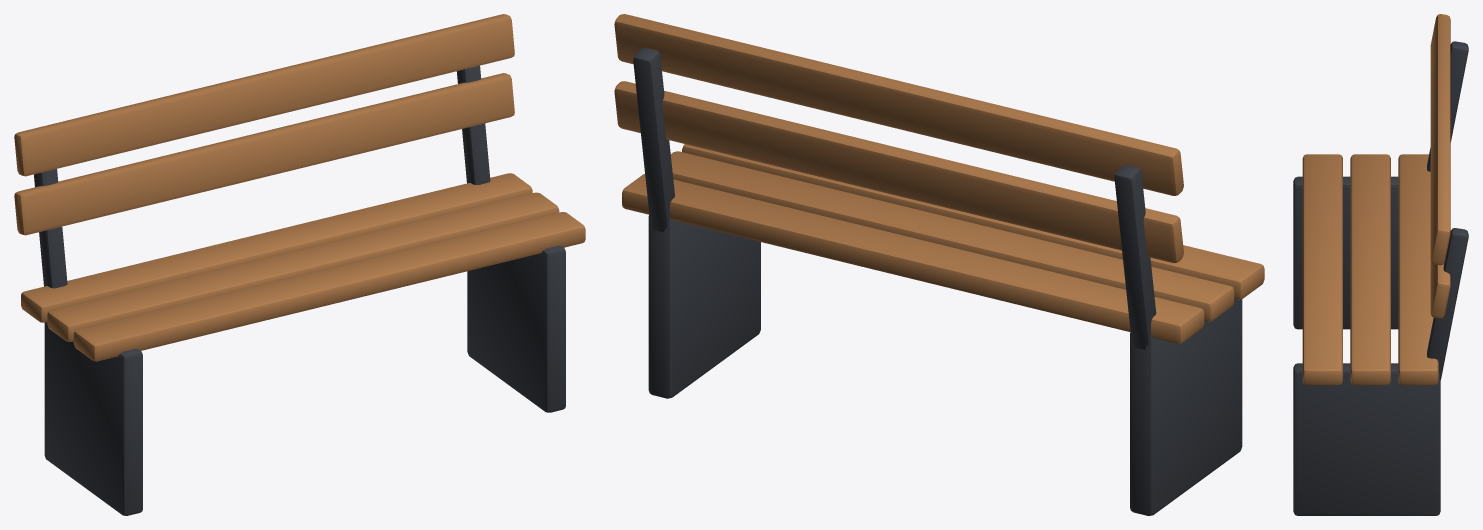
File: bench.glb
The picture shows the model from 3 angles, left to right: view 1: azimuth 30°, elevation 25°; view 2: azimuth 150°, elevation 25°; view 3: azimuth 270°, elevation 25°; orthographic projection. The views are drawn at different scales.
Visible parts, largest first — view 1: BenchMesh; view 2: BenchMesh; view 3: BenchMesh.
Boxes of the visible parts, x1,y1,x2,y2 form: BenchMesh: (14,14,585,515); BenchMesh: (614,14,1264,515); BenchMesh: (1293,14,1468,515).
Size of the model in its own units: 1.4 by 0.8956 by 0.4759.
